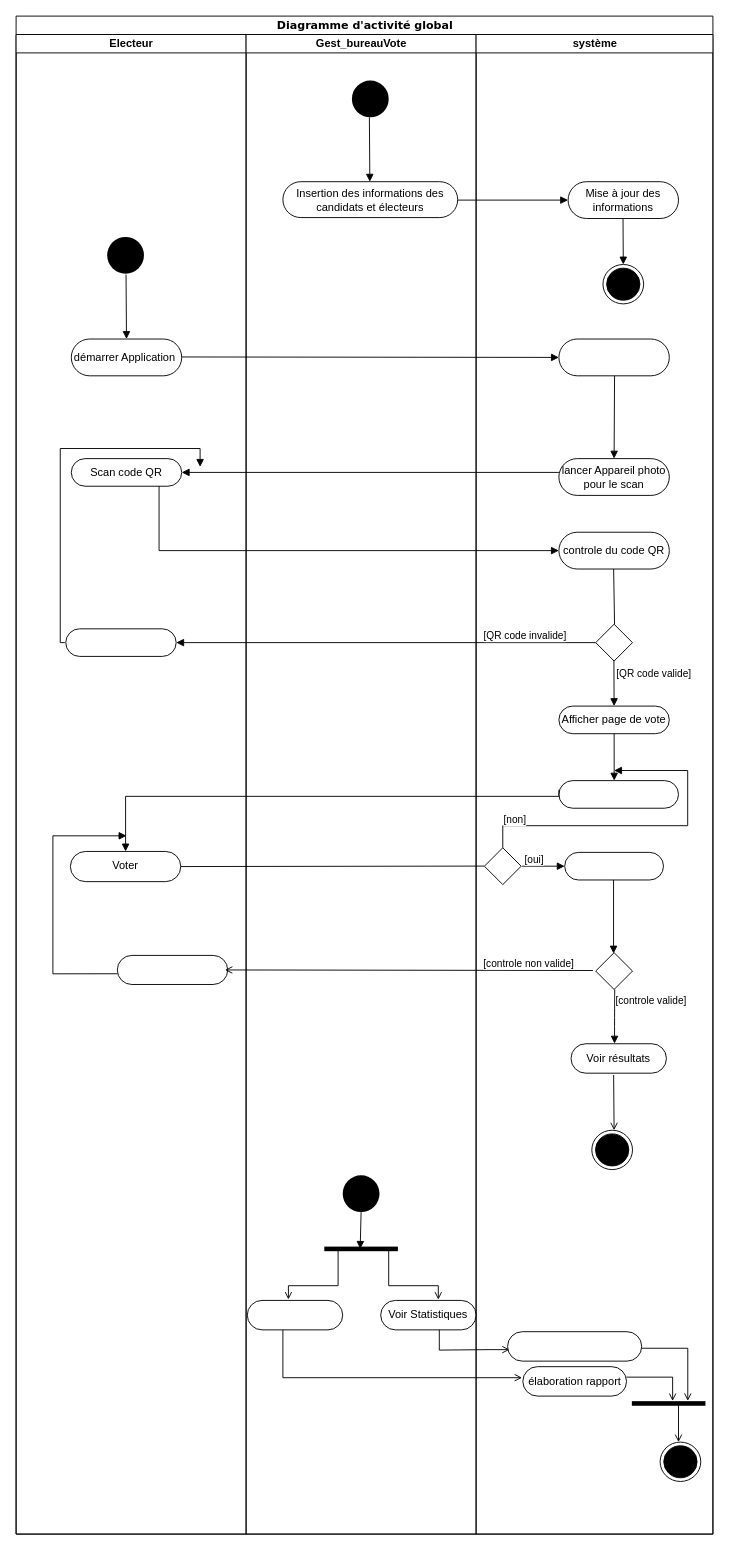
Image size: 730x1550. Some labels were removed from this diagram. Here are the shapes that lost their labels. From the top down, the centre of each, then its label:
(613,357): ouvrir App
(120,642): message d'erreur
(618,794): afficher liste candidats
(614,865): Controle vote
(172,969): Afficher erreur
(294,1315): Elaborer Rapport
(574,1346): compilation et élaboration des statistiques
